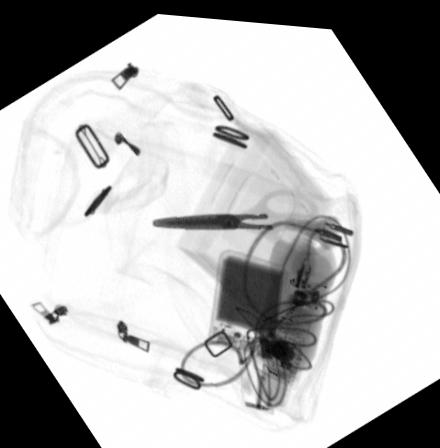Powerbank: (208, 244, 289, 356)
Scissors: (152, 182, 332, 255)
